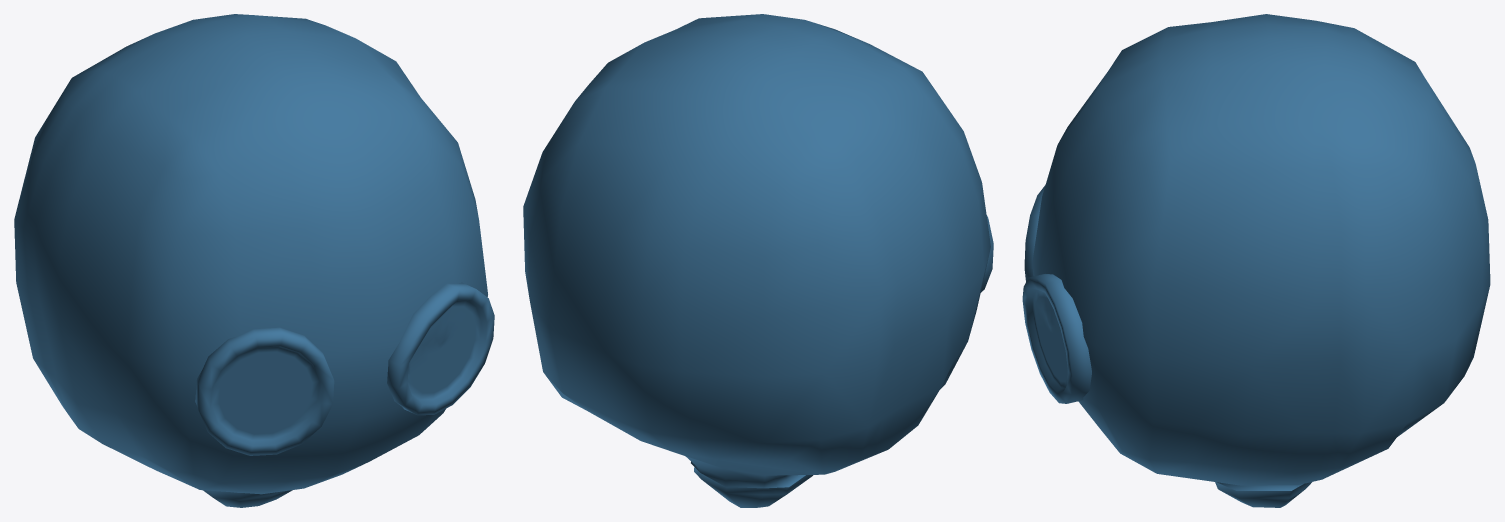
File: Puppe_09_SM.FBX
3 renders of one model, left to right at view 1: azimuth 30°, elevation 25°; view 2: azimuth 150°, elevation 25°; view 3: azimuth 270°, elevation 25°, orthographic.
Parts seen in each view (by area): view 1: Voodoo 010; view 2: Voodoo 010; view 3: Voodoo 010.
Part boxes in pixels (x1=…): Voodoo 010: x1=14, y1=14, x2=494, y2=507; Voodoo 010: x1=523, y1=14, x2=993, y2=507; Voodoo 010: x1=1022, y1=14, x2=1490, y2=507.
Size of the model in its own units: 14.87 by 17.26 by 15.71.
